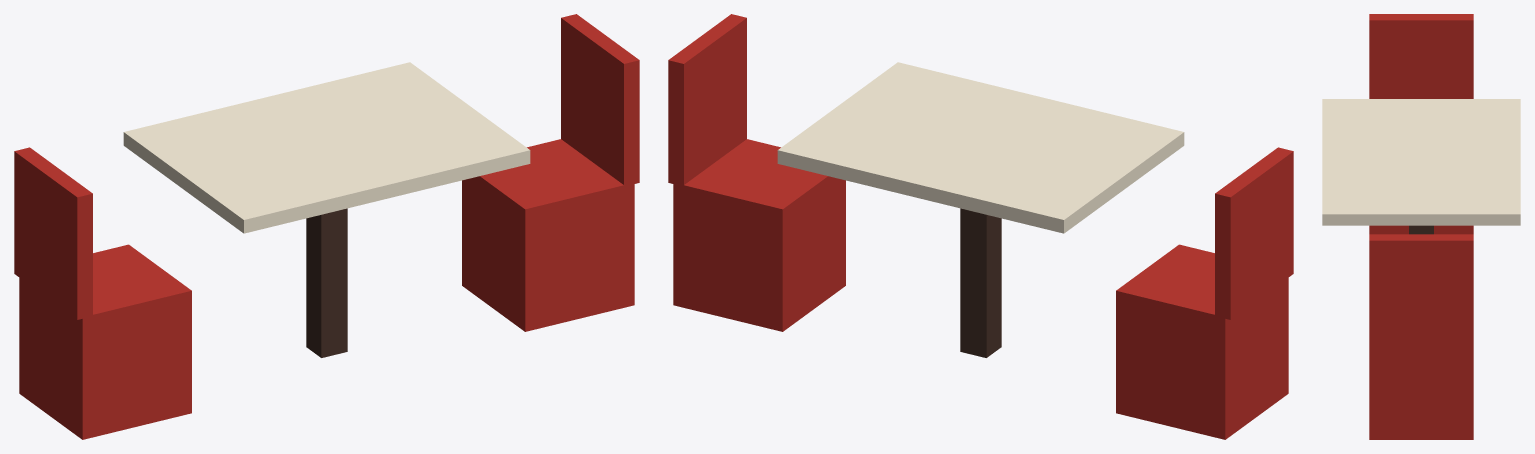
File: fc_table_6.glb
3 views of the same model, side by side, from view 1: azimuth 30°, elevation 25°; view 2: azimuth 150°, elevation 25°; view 3: azimuth 270°, elevation 25° (orthographic). The views are drawn at different scales.
Parts seen in each view (by area): view 1: Box1, Box5, Box3, Box4, Box6, Box2; view 2: Box1, Box5, Box3, Box4, Box6, Box2; view 3: Box1, Box6, Box5, Box4, Box3, Box2.
Boxes of the visible parts, bbox=[...] form: Box1: bbox=[123, 62, 530, 233]; Box5: bbox=[462, 139, 634, 331]; Box3: bbox=[19, 244, 191, 439]; Box4: bbox=[14, 147, 92, 319]; Box6: bbox=[561, 14, 639, 186]; Box2: bbox=[306, 208, 347, 357]; Box1: bbox=[777, 62, 1184, 233]; Box5: bbox=[673, 139, 845, 331]; Box3: bbox=[1116, 244, 1288, 439]; Box4: bbox=[1215, 147, 1293, 319]; Box6: bbox=[668, 14, 746, 185]; Box2: bbox=[960, 208, 1001, 357]; Box1: bbox=[1322, 99, 1520, 225]; Box6: bbox=[1369, 234, 1473, 341]; Box5: bbox=[1369, 342, 1473, 439]; Box4: bbox=[1369, 14, 1473, 98]; Box3: bbox=[1369, 225, 1473, 234]; Box2: bbox=[1409, 225, 1433, 234].
Size of the model in its own units: 2.16 by 0.895 by 0.8.
